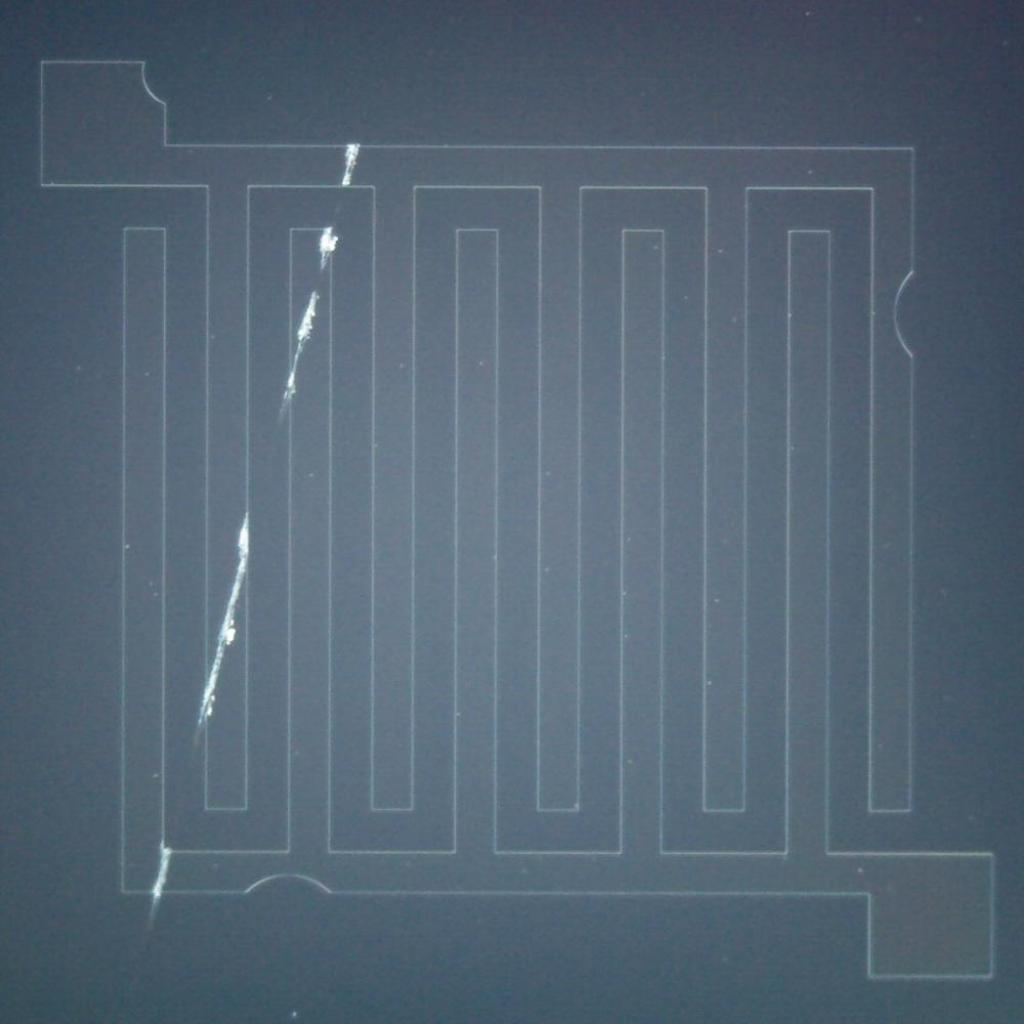dot: (806, 168, 814, 178), (858, 868, 862, 873), (292, 1012, 297, 1016), (126, 544, 130, 549), (624, 634, 628, 638)
straight: (308, 232, 346, 268), (292, 290, 330, 326), (332, 148, 368, 184), (209, 549, 245, 585), (209, 654, 245, 690), (292, 328, 330, 362), (225, 513, 261, 548), (209, 619, 245, 654), (188, 691, 224, 726), (273, 366, 309, 400), (209, 585, 245, 619), (145, 856, 179, 890)
